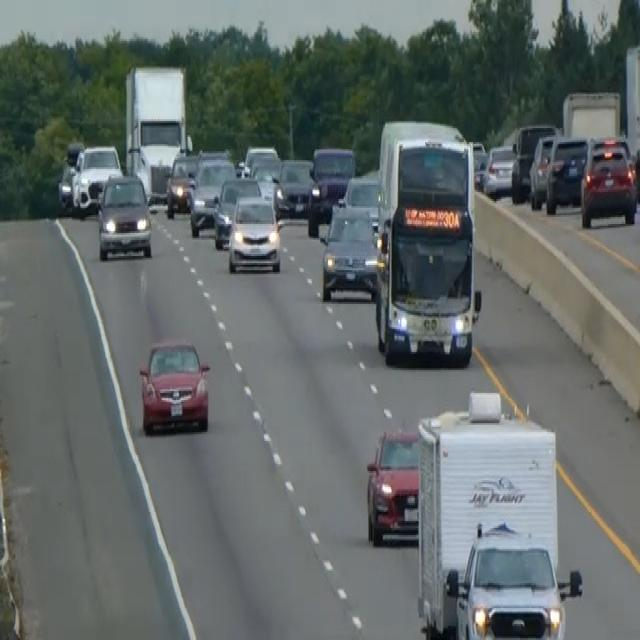bus: (372, 116, 482, 368)
car: (137, 336, 211, 436), (365, 425, 420, 546), (319, 201, 378, 300), (579, 135, 637, 228), (95, 170, 153, 260), (227, 192, 281, 274), (307, 144, 355, 235), (188, 153, 236, 236), (71, 142, 123, 217), (212, 172, 261, 249), (544, 134, 589, 214), (273, 154, 315, 218), (527, 132, 559, 208), (341, 173, 381, 231), (165, 149, 199, 217), (482, 142, 517, 199), (57, 140, 84, 212), (250, 154, 280, 204), (243, 142, 278, 174), (469, 138, 487, 188), (634, 137, 639, 208)
truck: (414, 388, 583, 638)
